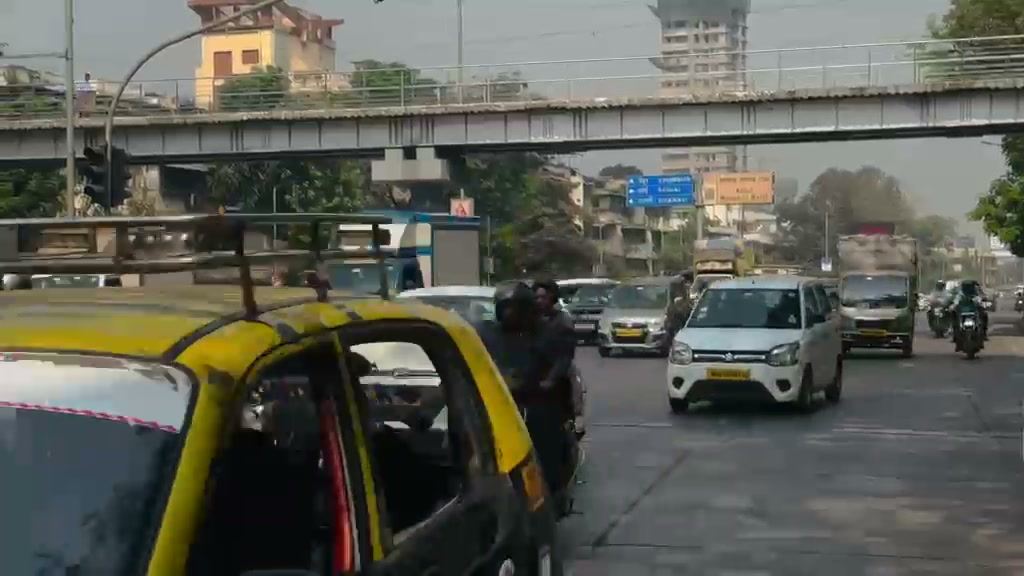car: (3, 288, 562, 569), (664, 274, 846, 414), (397, 286, 506, 369), (595, 280, 673, 358), (555, 277, 618, 341)
motorcycle: (952, 304, 988, 360)
pedestrian: (490, 280, 586, 506), (531, 278, 576, 357)
truck: (835, 233, 918, 359), (695, 228, 746, 277)
